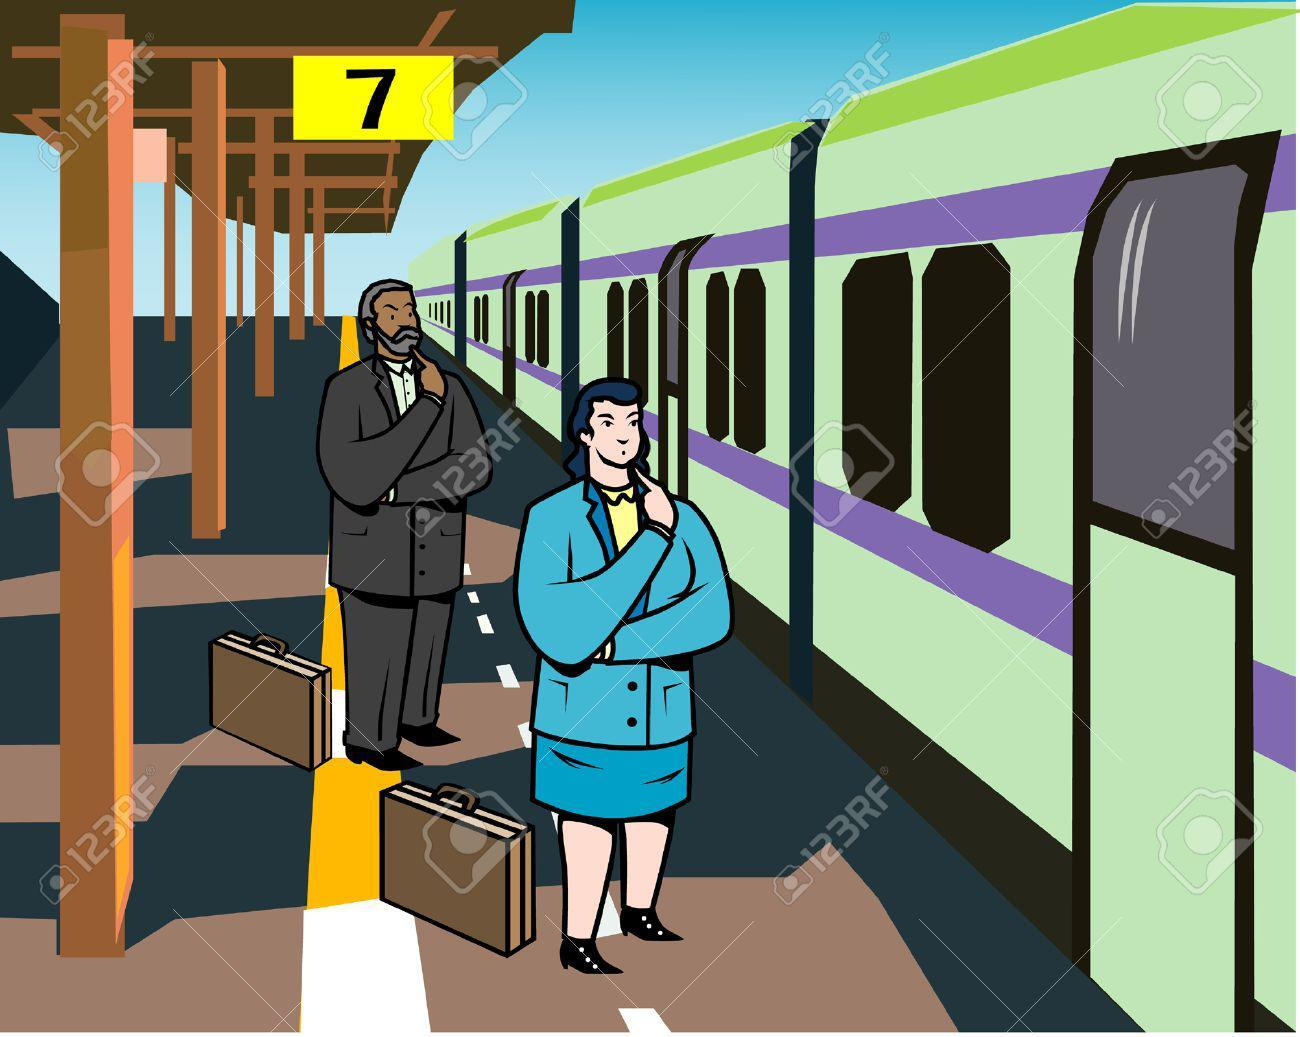person: (516, 376, 738, 976), (319, 276, 497, 772)
train: (410, 2, 1298, 1025)
